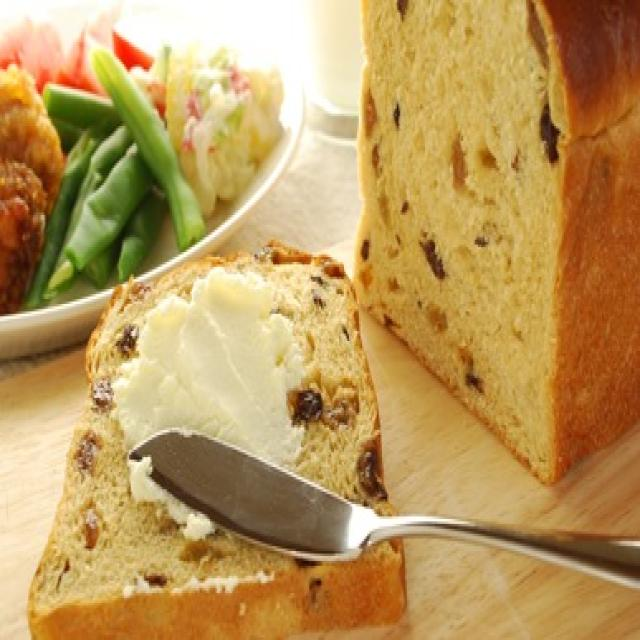面包点心: (81, 240, 382, 635)
